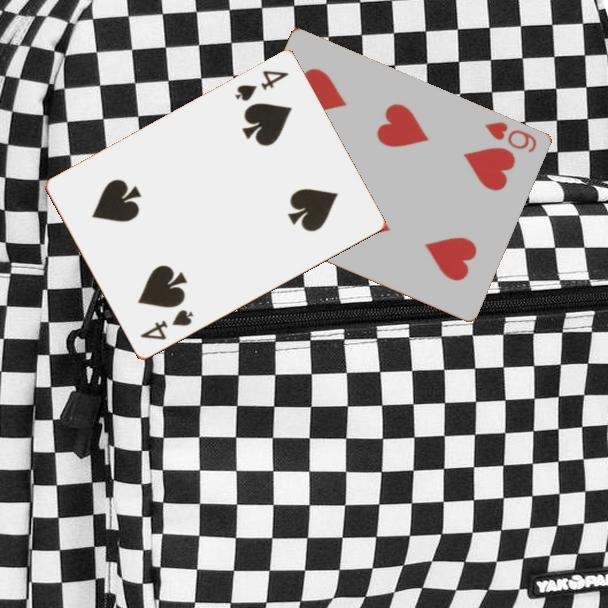h06: (481, 118, 539, 156)
s04: (231, 67, 292, 105), (137, 306, 197, 344)
